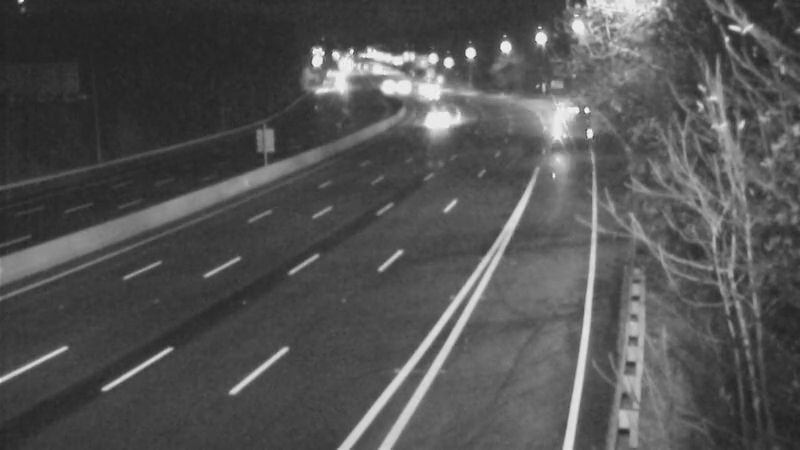vehicle: (374, 60, 424, 110), (359, 62, 409, 112), (396, 62, 446, 112), (408, 66, 458, 116), (403, 75, 453, 125), (534, 87, 584, 137), (419, 88, 469, 138)
